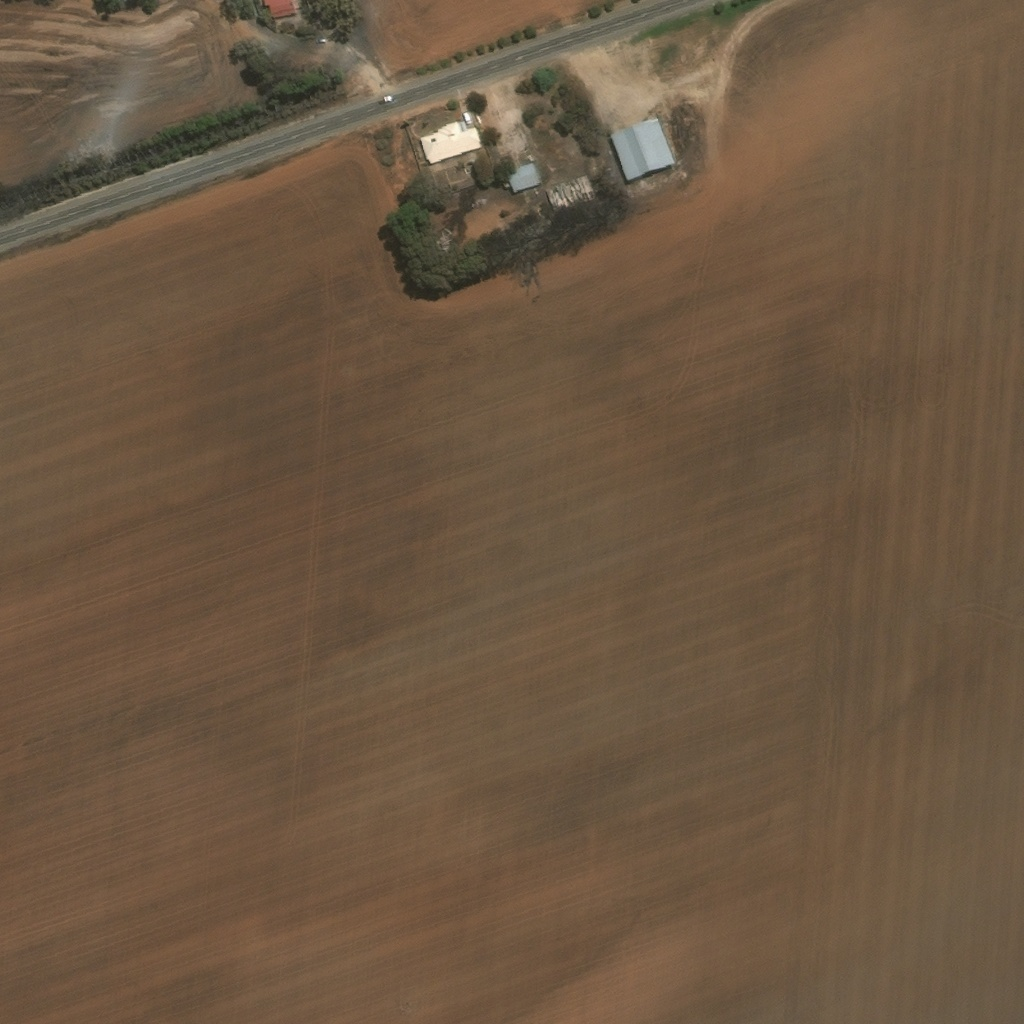0 no-damage: (609, 114, 677, 181), (419, 119, 483, 165), (505, 160, 542, 194)
2 major-damage: (545, 173, 594, 210)
3 destroyed: (494, 200, 543, 235)
